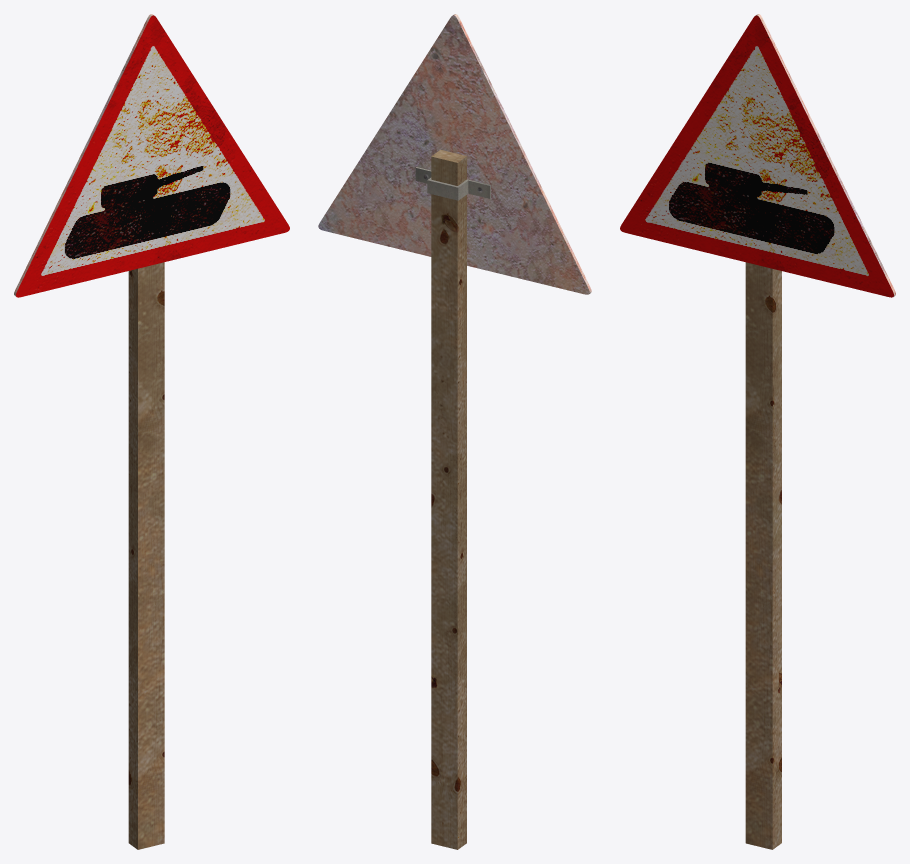
The model's file is Tank_sign.FBX.
The picture shows the model from 3 angles, left to right: view 1: azimuth 30°, elevation 25°; view 2: azimuth 150°, elevation 25°; view 3: azimuth 330°, elevation 25°; orthographic projection.
Visible parts, largest first — view 1: Tank_sign; view 2: Tank_sign; view 3: Tank_sign.
Boxes of the visible parts, x1,y1,x2,y2 form: Tank_sign: (14, 14, 289, 849); Tank_sign: (318, 14, 591, 849); Tank_sign: (620, 14, 895, 849).
Size of the model in its own units: 100 by 291 by 8.12.
